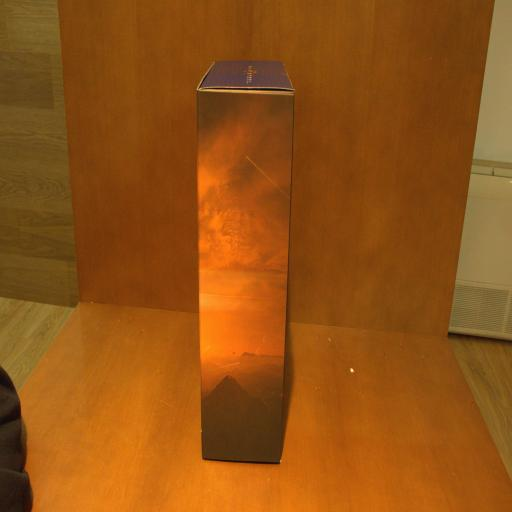superman: (198, 61, 296, 460)
